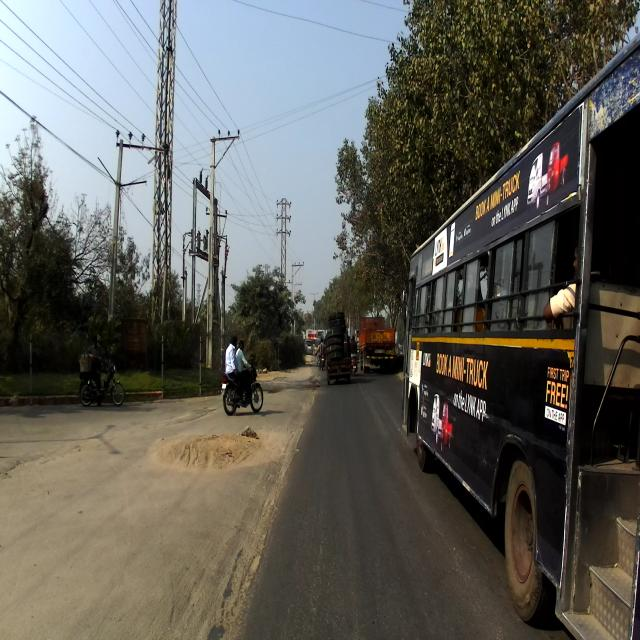bus ahead at: (398, 27, 640, 639)
motorcycle ahead at: (74, 356, 129, 415), (220, 365, 267, 420)
